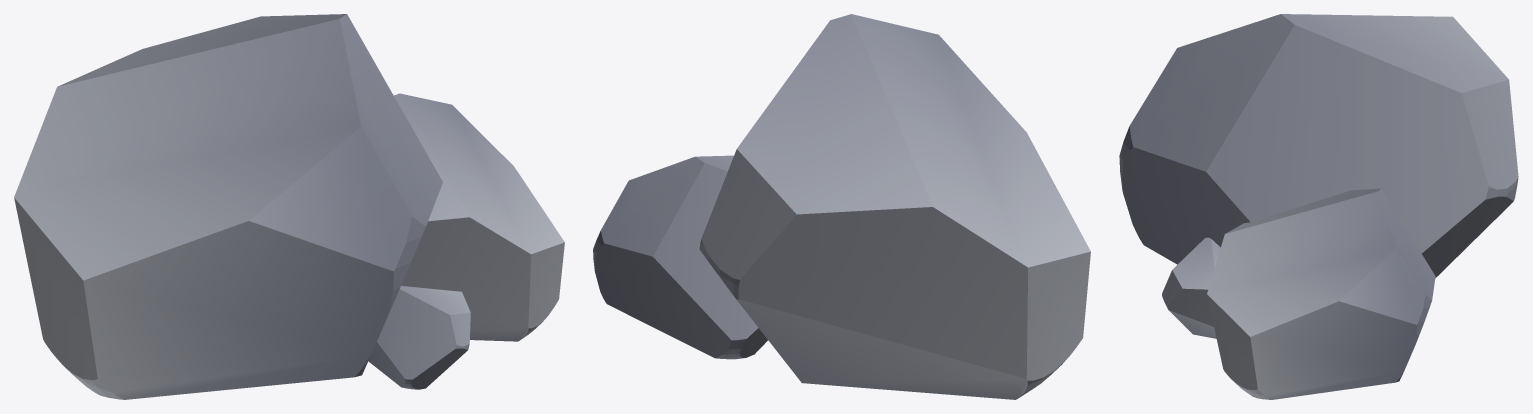
File: PIEDRAS.fbx
3 renders of one model, left to right at view 1: azimuth 30°, elevation 25°; view 2: azimuth 150°, elevation 25°; view 3: azimuth 270°, elevation 25°, orthographic. The views are drawn at different scales.
Visible parts, largest first — view 1: roca grande; view 2: roca grande; view 3: roca grande.
Part boxes in pixels (bbox=[...]): roca grande: bbox=[14, 14, 564, 399]; roca grande: bbox=[593, 14, 1090, 399]; roca grande: bbox=[1119, 14, 1518, 399].
Bounding box in the file's own units: 194 × 161 × 144.
Materials: 1 (1 with a texture image).
